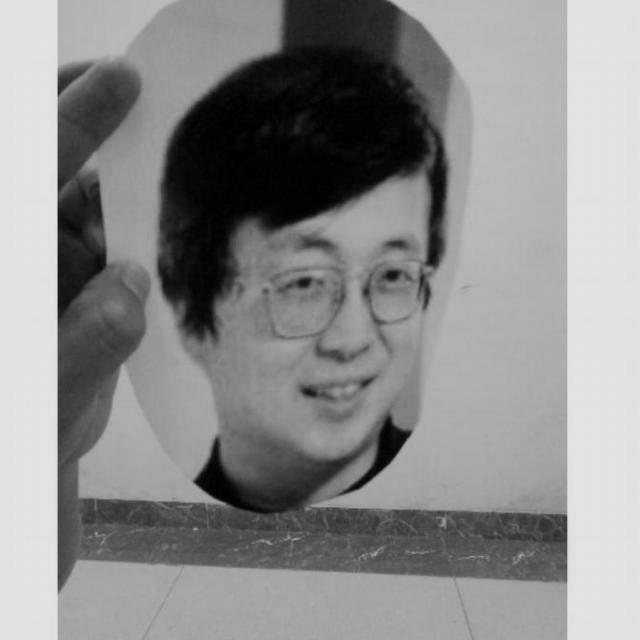fake: (60, 0, 486, 517)
